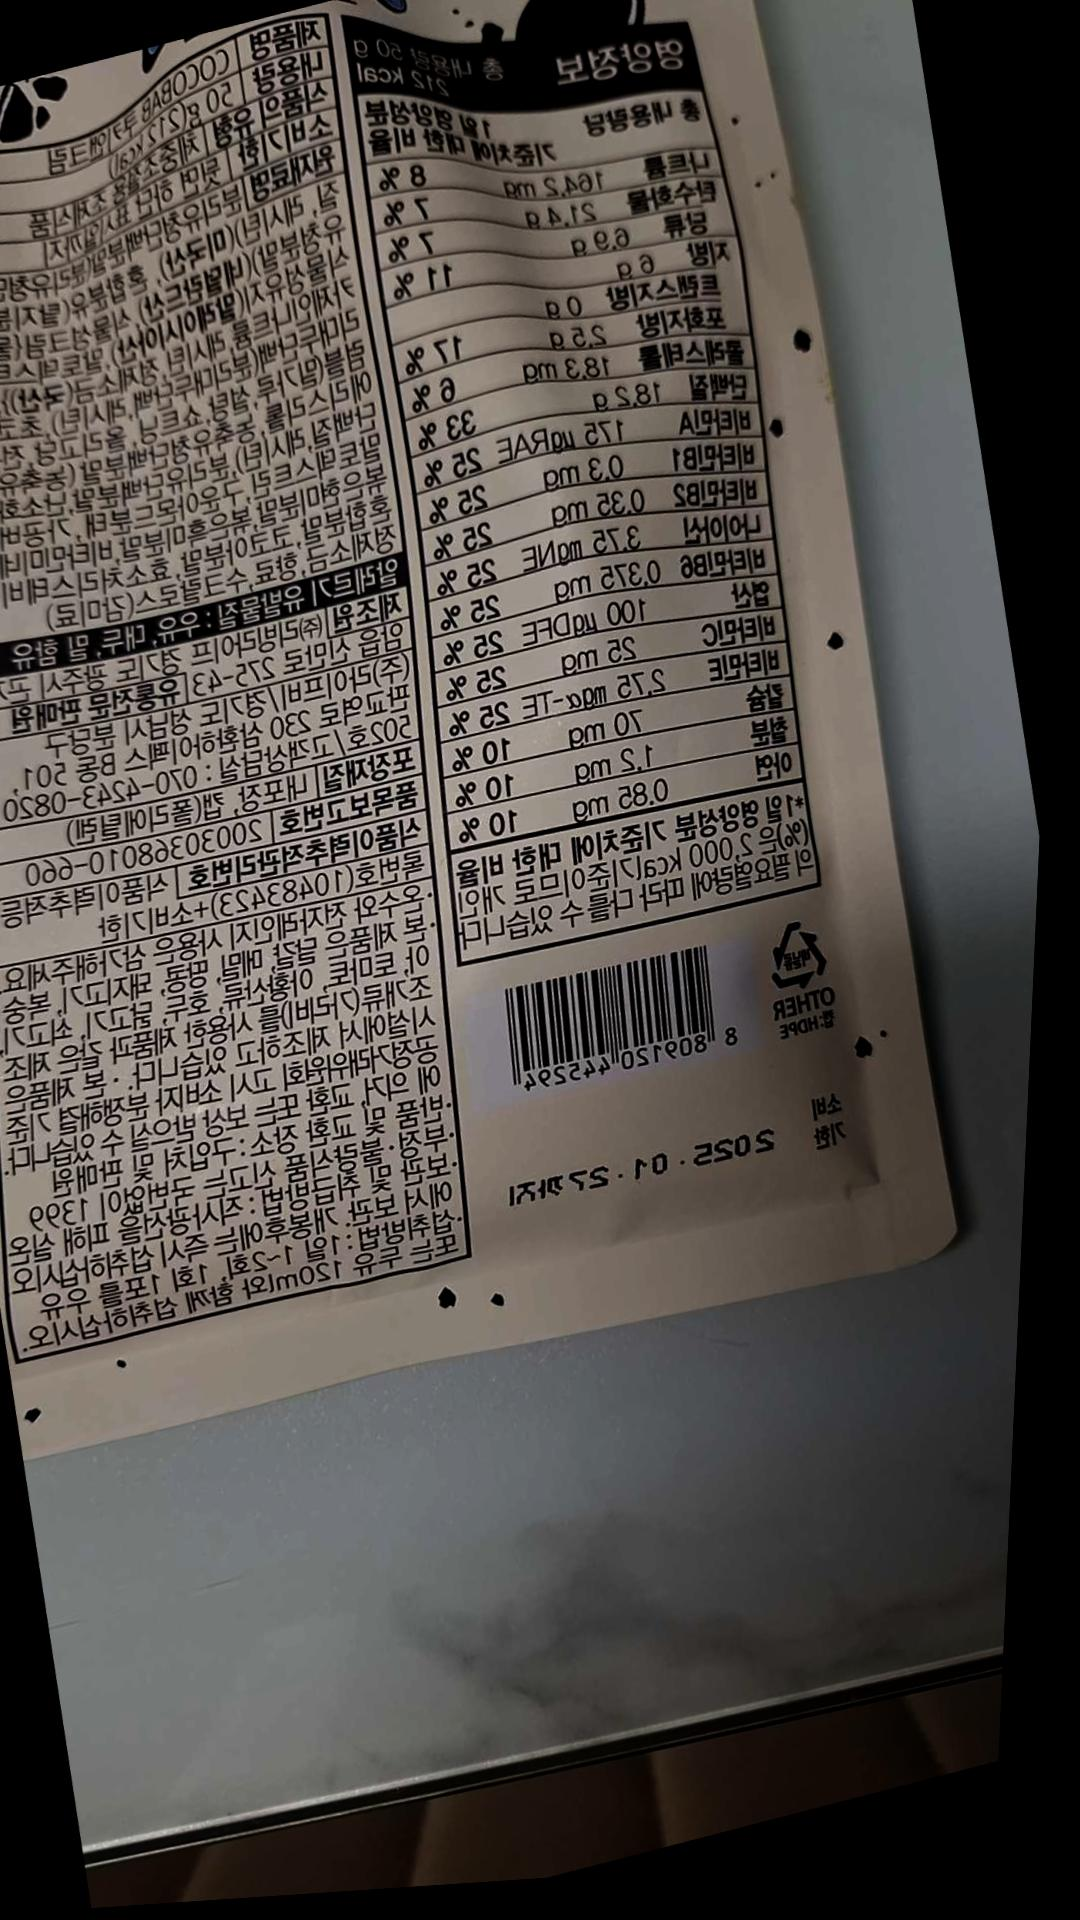milk-2800-2024-9-20: (483, 944, 762, 1116)
